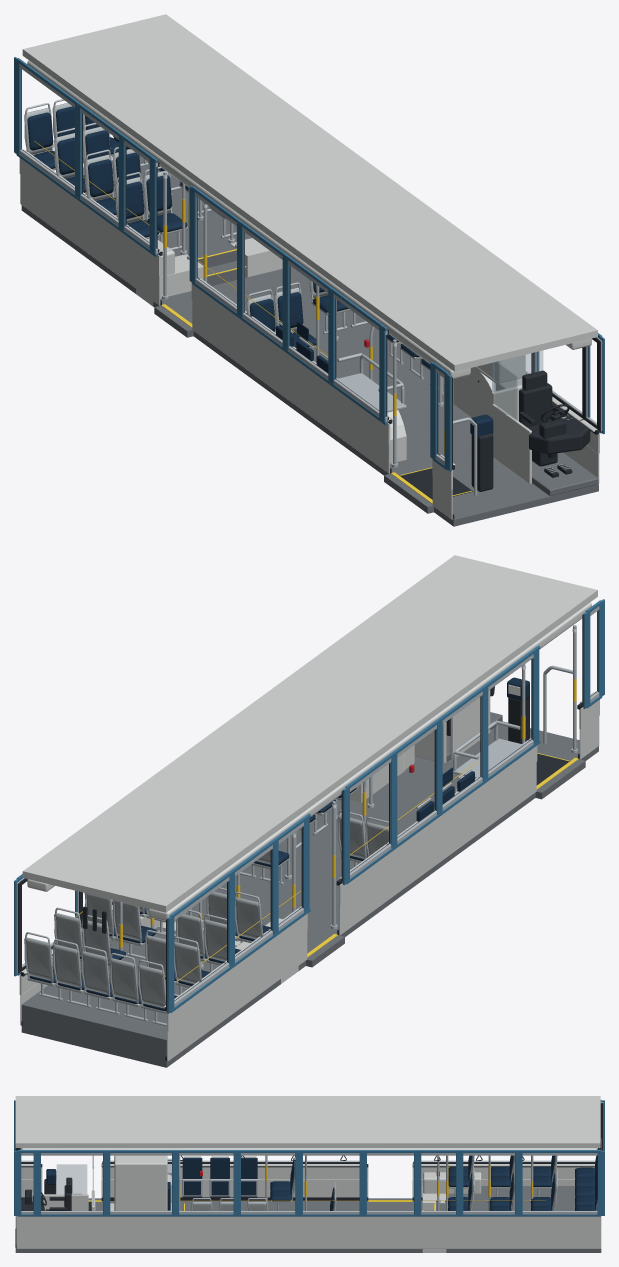
File: city-bus-12m-interior-v2-closeup.lod1.glb
The picture shows the model from 3 angles, top to bottom: view 1: azimuth 30°, elevation 25°; view 2: azimuth 150°, elevation 25°; view 3: azimuth 270°, elevation 25°; orthographic projection. The views are drawn at different scales.
Parts seen in each view (by area): view 1: interior-batch-panel, interior-batch-floor, interior-batch-window-outer-blue, interior-batch-seat, interior-batch-rubber, interior-batch-metal, interior-batch-seat-shell, interior-batch-rail, interior-batch-glass, interior-batch-yellow-grip; view 2: interior-batch-panel, interior-batch-floor, interior-batch-seat-shell, interior-batch-window-outer-blue, interior-batch-metal, interior-batch-rubber, interior-batch-rail, interior-batch-seat, interior-batch-yellow-grip; view 3: interior-batch-panel, interior-batch-window-outer-blue, interior-batch-seat, interior-batch-metal, interior-batch-floor, interior-batch-rubber, interior-batch-seat-shell, interior-batch-glass, interior-batch-yellow-grip, interior-batch-rail.
Part boxes in pixels (x1,y1,x2,y2): interior-batch-panel: (19,14,599,519); interior-batch-floor: (21,155,598,526); interior-batch-window-outer-blue: (14,57,604,471); interior-batch-seat: (27,106,493,437); interior-batch-rubber: (21,69,600,519); interior-batch-metal: (19,64,602,472); interior-batch-seat-shell: (24,103,430,370); interior-batch-rail: (163,171,477,495); interior-batch-glass: (492,350,542,420); interior-batch-yellow-grip: (34,141,444,452); interior-batch-panel: (19,555,599,1061); interior-batch-floor: (21,712,598,1067); interior-batch-seat-shell: (24,787,388,1013); interior-batch-window-outer-blue: (14,599,604,1013); interior-batch-metal: (16,606,599,1026); interior-batch-rubber: (18,611,597,1060); interior-batch-rail: (119,625,576,965); interior-batch-seat: (29,677,529,1010); interior-batch-yellow-grip: (75,679,576,981); interior-batch-panel: (15,1096,601,1252); interior-batch-window-outer-blue: (14,1100,604,1216); interior-batch-seat: (46,1148,599,1210); interior-batch-metal: (15,1102,603,1214); interior-batch-floor: (15,1186,601,1252); interior-batch-rubber: (15,1103,603,1210); interior-batch-seat-shell: (191,1149,599,1210); interior-batch-glass: (57,1164,93,1205); interior-batch-yellow-grip: (179,1165,545,1200); interior-batch-rail: (167,1155,533,1210).
Bounding box in the file's own units: 2.48 × 2.44 × 11.97.
Materials: 13 (1 with a texture image).
